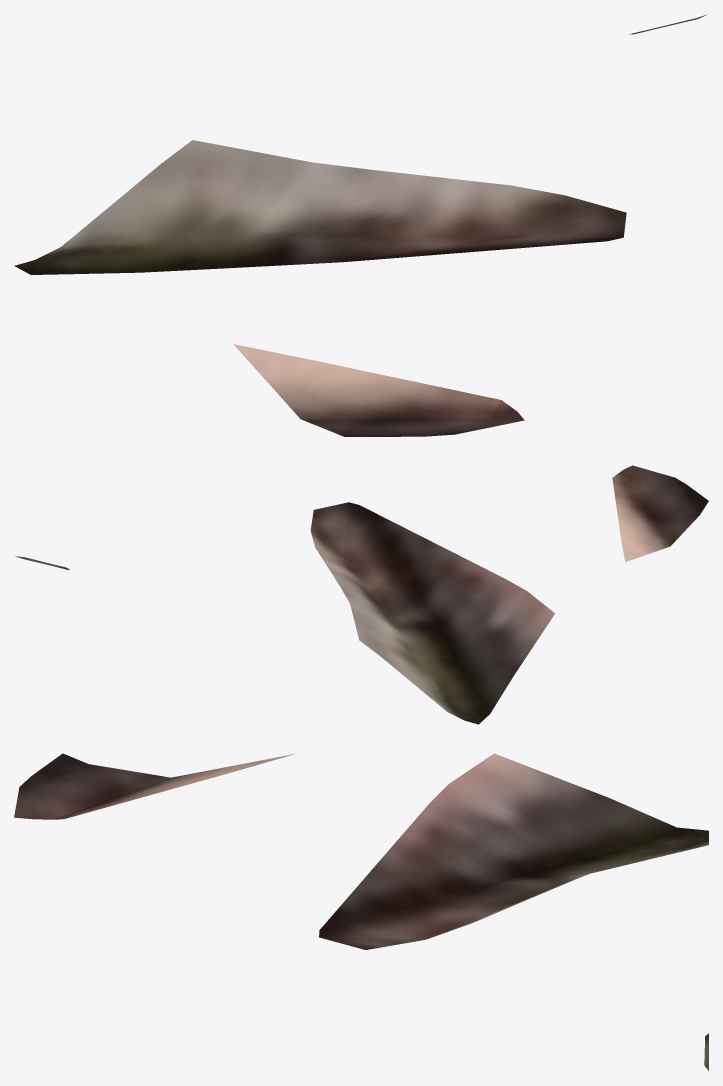
3 renders of one model, top to bottom at view 1: azimuth 30°, elevation 25°; view 2: azimuth 150°, elevation 25°; view 3: azimuth 270°, elevation 25°, orthographic. The views are drawn at different scales.
Bounding box in the file's own units: 0.3404 × 0.0385 × 0.3142.
1 material, 1 textured.
